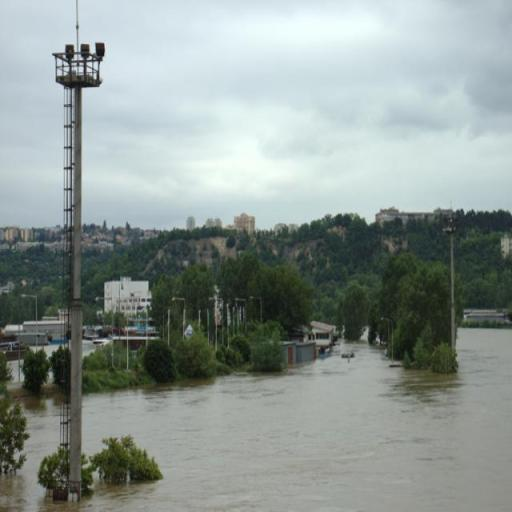flood: (0, 330, 512, 512)
house: (102, 275, 153, 321), (376, 207, 452, 224), (461, 308, 512, 328), (22, 320, 66, 342), (310, 321, 333, 348), (279, 340, 298, 365), (234, 212, 256, 233), (298, 339, 316, 362), (499, 232, 512, 259)
